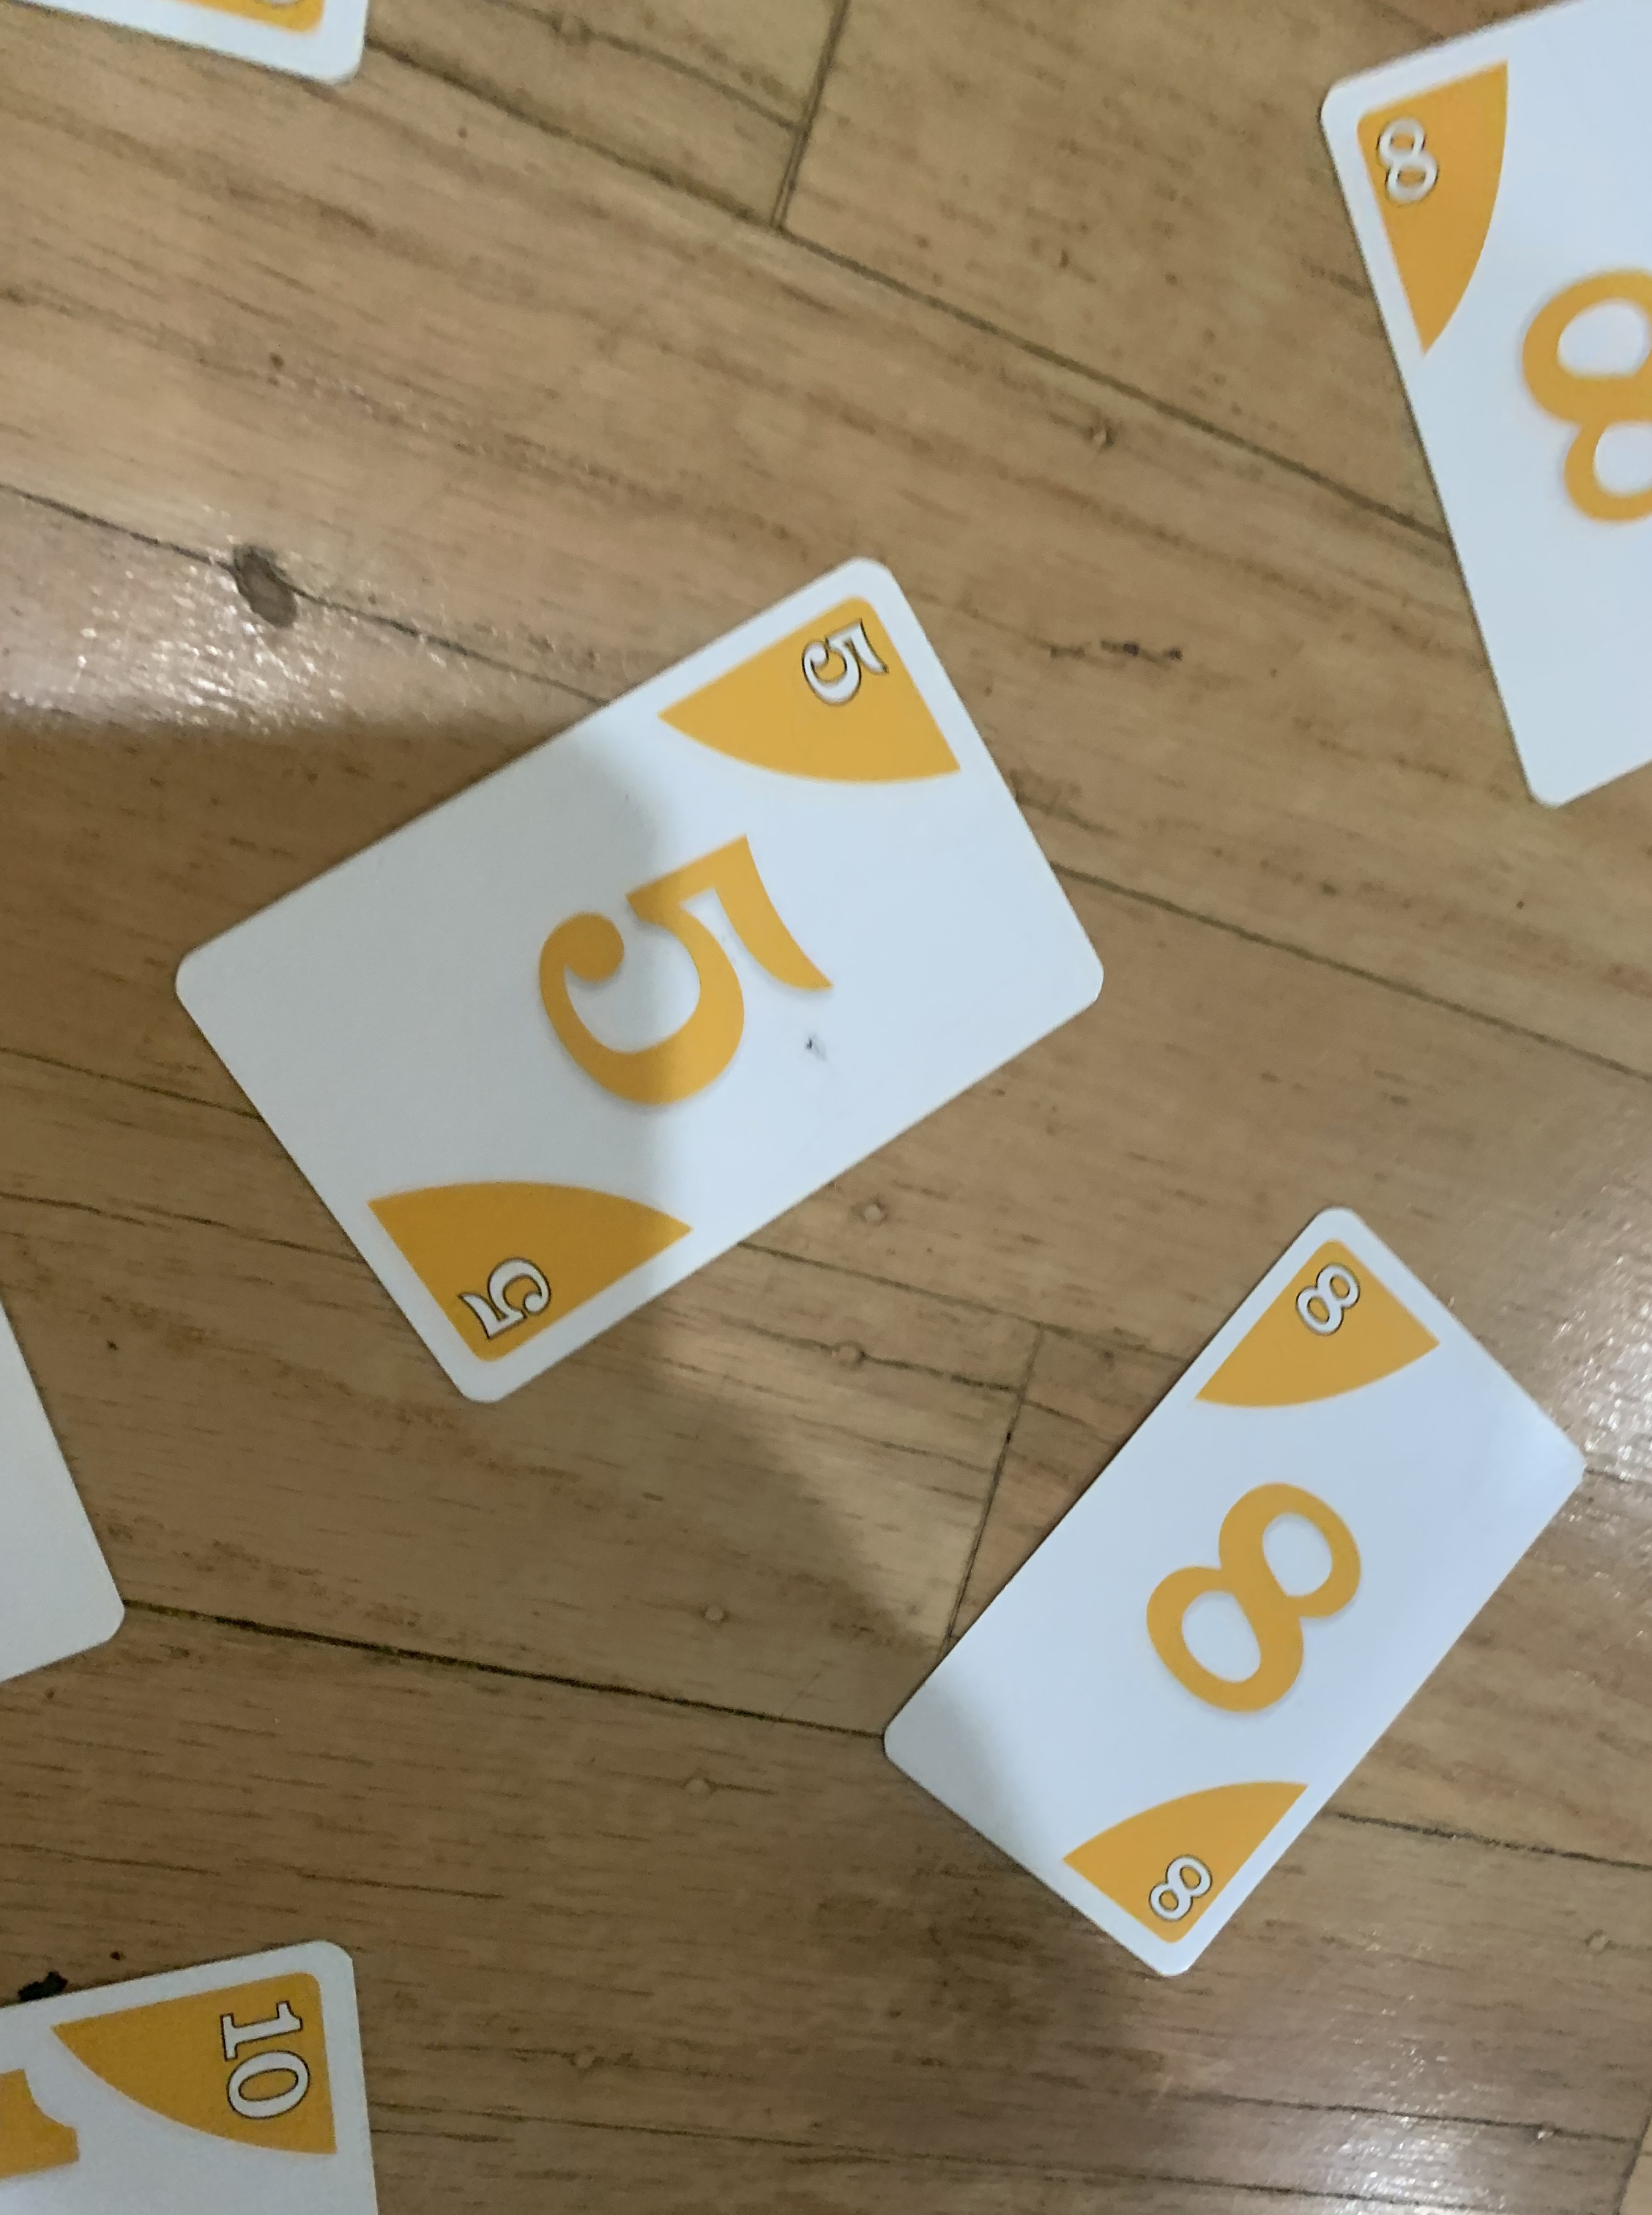eight: (871, 1205, 1596, 1984)
five: (160, 550, 1111, 1411)
